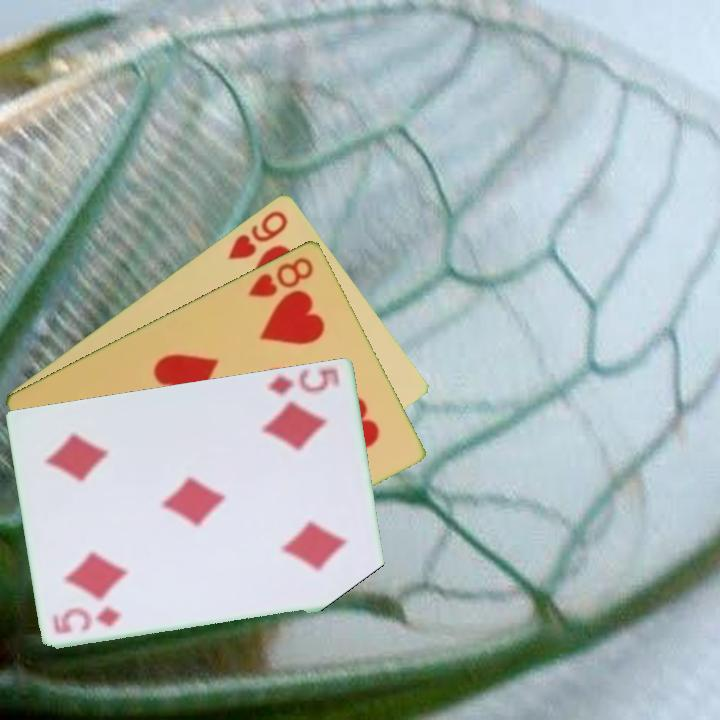5d: (264, 364, 340, 399), (49, 605, 124, 637)
8h: (244, 253, 317, 300)
9h: (223, 206, 291, 263)
